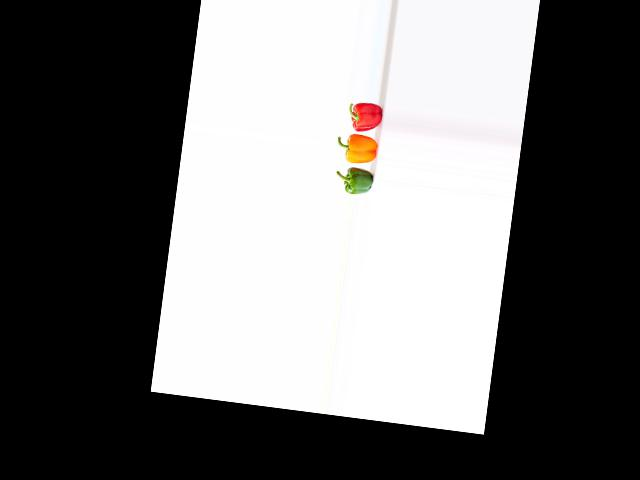bell_pepper: (339, 97, 383, 134)
